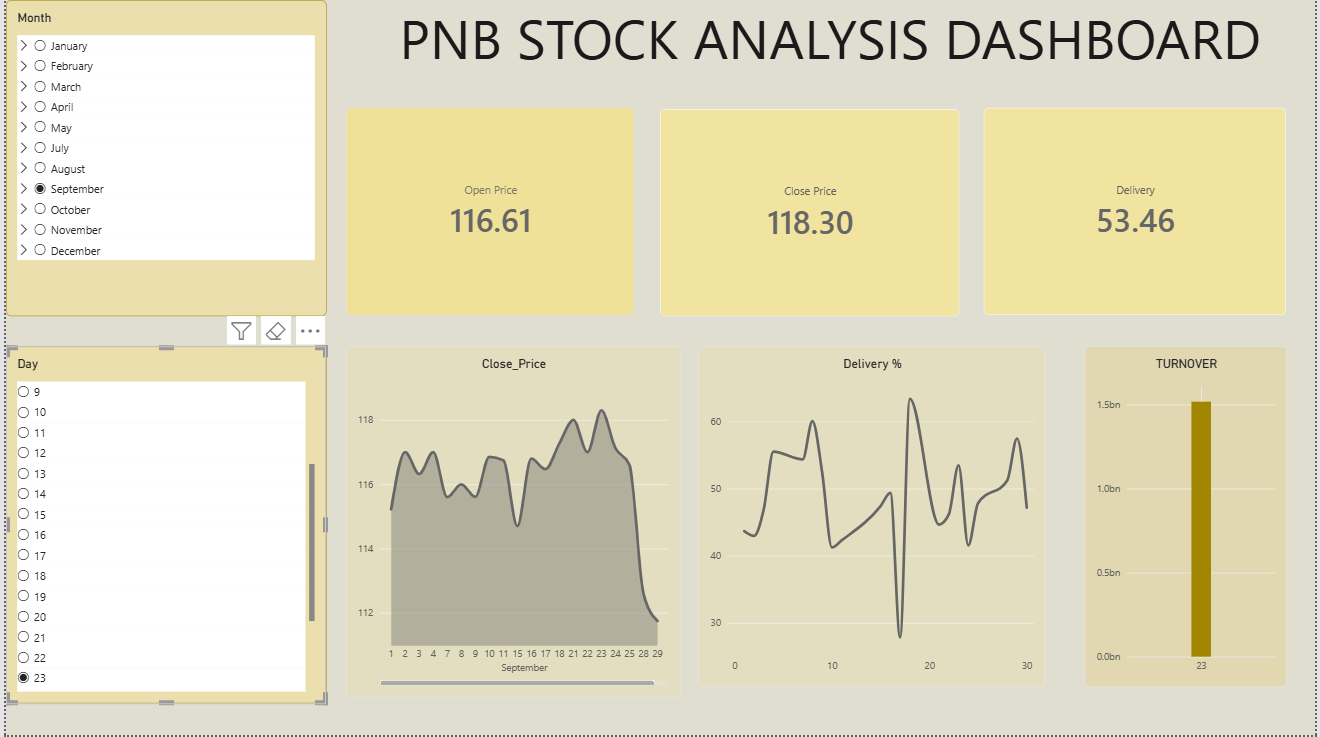

This screenshot's page, from the dashboard's own definition file:
{"tool":"powerbi","page":{"name":"Page 1","canvas":[1920,1080],"ordinal":0},"visuals":[{"type":"cardVisual","fields":{"Data":["PNB_STOCK_ANALYSIS.Close_Price"]},"box":[960,160.4,440.4,305.7],"z":0},{"type":"cardVisual","fields":{"Data":["PNB_STOCK_ANALYSIS.Percentage_Deliverable"]},"box":[1434.7,158.2,444.7,305.7],"z":1000},{"type":"cardVisual","fields":{"Data":["PNB_STOCK_ANALYSIS.Open_Price"]},"box":[498.2,158.2,423.3,305.7],"z":2000},{"type":"lineChart","title":"Close_Price ","fields":{"Category":["PNB_STOCK_ANALYSIS.DATE.Variation.Date Hierarchy.Month","PNB_STOCK_ANALYSIS.DATE.Variation.Date Hierarchy.Day"],"Y":["PNB_STOCK_ANALYSIS.Close_Price"]},"box":[498.2,508.9,491.8,515.3],"z":3000},{"type":"lineChart","title":" Delivery %","fields":{"Category":["PNB_STOCK_ANALYSIS.DATE.Variation.Date Hierarchy.Day"],"Y":["PNB_STOCK_ANALYSIS.Average Delivery %"]},"box":[1015.6,508.9,508.9,500.3],"z":4000},{"type":"listSlicer","fields":{"Values":["PNB_STOCK_ANALYSIS.DATE.Variation.Date Hierarchy.Month","PNB_STOCK_ANALYSIS.DATE.Variation.Date Hierarchy.Day"]},"box":[0,0,470.4,464],"z":5000},{"type":"listSlicer","fields":{"Values":["PNB_STOCK_ANALYSIS.DATE.Variation.Date Hierarchy.Day"]},"box":[0,508.9,470.4,523.8],"z":6000},{"type":"clusteredColumnChart","title":"TURNOVER ","fields":{"Category":["PNB_STOCK_ANALYSIS.DATE.Variation.Date Hierarchy.Day"],"Y":["PNB_STOCK_ANALYSIS.TURNOVER"]},"box":[1582.2,508.9,297.2,500.3],"z":7000},{"type":"textbox","box":[498.9,0,1421.5,150.4],"z":9000}]}

Visuals, with their boxes in screenshot pixels (x1, y1, x2, y2), scaled from the page's 1920x1080 canvas onto the 1320x737 screenshot:
cardVisual - PNB_STOCK_ANALYSIS.Close_Price: <box>660,109,963,318</box>
cardVisual - PNB_STOCK_ANALYSIS.Percentage_Deliverable: <box>986,108,1292,317</box>
cardVisual - PNB_STOCK_ANALYSIS.Open_Price: <box>343,108,634,317</box>
"Close_Price " lineChart: <box>343,347,681,699</box>
" Delivery %" lineChart: <box>698,347,1048,689</box>
listSlicer - PNB_STOCK_ANALYSIS.DATE.Variation.Date Hierarchy.Month x PNB_STOCK_ANALYSIS.DATE.Variation.Date Hierarchy.Day: <box>0,0,323,317</box>
listSlicer - PNB_STOCK_ANALYSIS.DATE.Variation.Date Hierarchy.Day: <box>0,347,323,705</box>
"TURNOVER " clusteredColumnChart: <box>1088,347,1292,689</box>
textbox: <box>343,0,1319,103</box>
